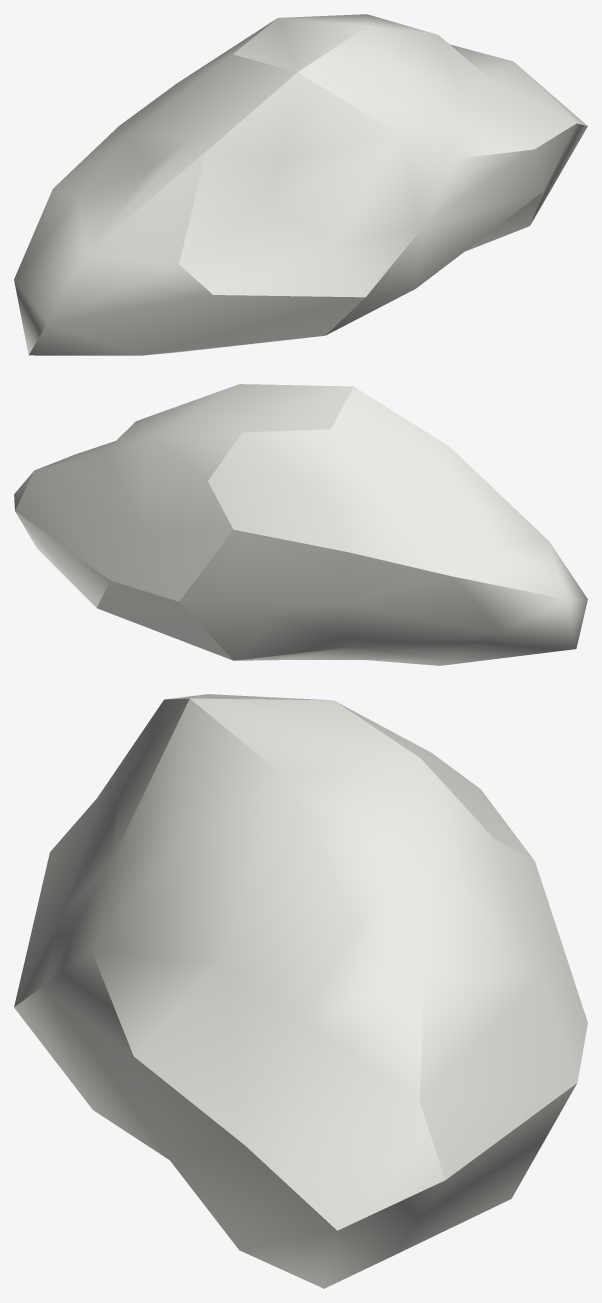
The model's file is rock_6.fbx.
The picture shows the model from 3 angles, top to bottom: view 1: azimuth 30°, elevation 25°; view 2: azimuth 150°, elevation 25°; view 3: azimuth 270°, elevation 25°; orthographic projection. The views are drawn at different scales.
Visible parts, largest first — view 1: rock.071; view 2: rock.071; view 3: rock.071.
Part boxes in pixels (x1=…): rock.071: x1=14, y1=14, x2=587, y2=355; rock.071: x1=14, y1=384, x2=587, y2=665; rock.071: x1=14, y1=694, x2=587, y2=1288.
Size of the model in its own units: 446 by 193 by 233.
